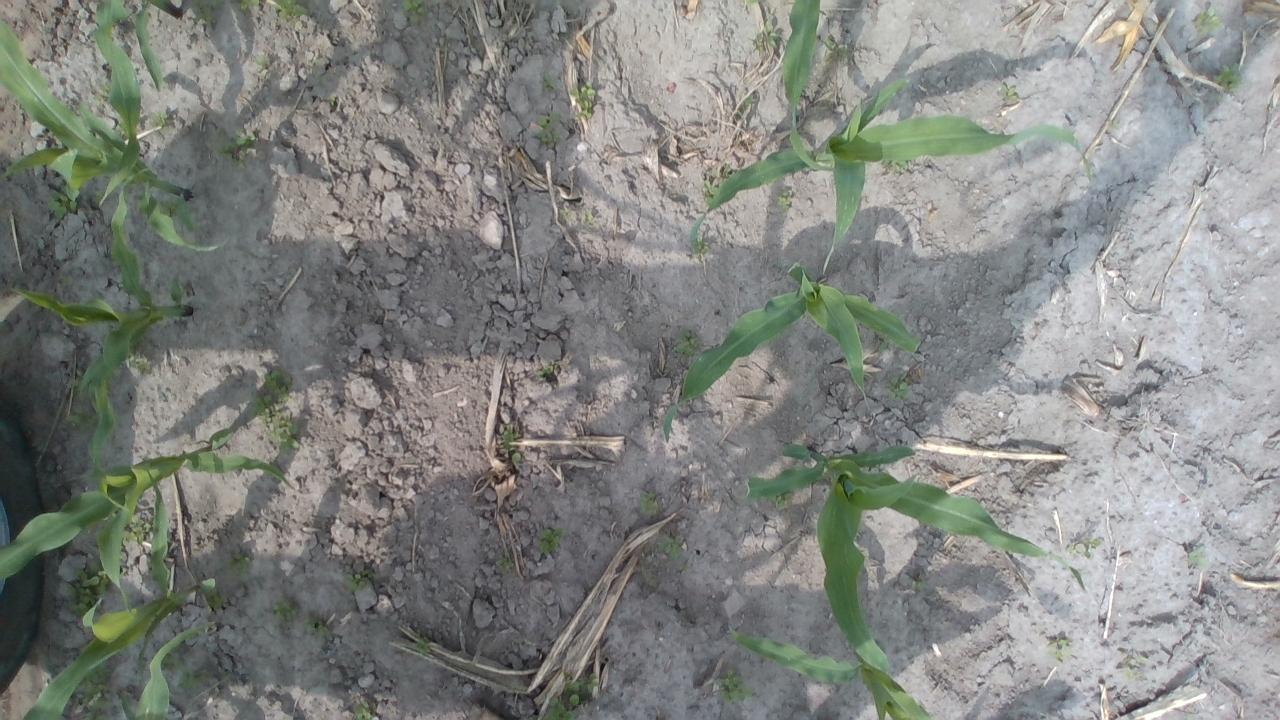Maize: (689, 76, 1096, 280), (747, 438, 1090, 670), (0, 376, 296, 580), (12, 167, 192, 483), (0, 18, 232, 251), (22, 465, 216, 720), (659, 263, 922, 441), (732, 629, 936, 720), (118, 621, 215, 720), (92, 0, 182, 91), (781, 0, 826, 174)
Weeds: (247, 366, 306, 454), (64, 560, 110, 622), (75, 662, 114, 720), (161, 195, 207, 234), (215, 126, 257, 168), (720, 667, 754, 703), (46, 183, 80, 218), (63, 402, 99, 434), (752, 16, 782, 52), (540, 693, 580, 720), (532, 112, 562, 148), (570, 79, 596, 119), (120, 512, 152, 544), (342, 569, 380, 594), (670, 328, 701, 358), (1192, 5, 1221, 37), (562, 672, 600, 696), (189, 0, 225, 25), (536, 526, 570, 552), (113, 354, 152, 376), (1214, 63, 1242, 93), (1121, 652, 1150, 680), (1064, 534, 1100, 556), (270, 0, 308, 20), (176, 668, 210, 690), (1046, 636, 1073, 663), (656, 534, 684, 560), (302, 612, 330, 638), (272, 598, 300, 624), (72, 366, 90, 402), (886, 375, 910, 402), (821, 35, 850, 57), (225, 554, 251, 578), (878, 158, 912, 176), (402, 0, 426, 24), (638, 489, 658, 516), (502, 423, 521, 450), (148, 108, 170, 130), (354, 701, 378, 720), (94, 78, 112, 103), (690, 234, 710, 256), (254, 54, 274, 76), (1188, 547, 1208, 568), (163, 652, 185, 671), (207, 589, 226, 610), (702, 180, 720, 202), (495, 552, 515, 570), (238, 0, 262, 15), (999, 82, 1018, 100), (774, 492, 792, 509), (534, 362, 554, 377), (542, 72, 557, 92), (878, 335, 894, 353), (775, 190, 790, 209), (93, 188, 108, 204), (416, 638, 430, 654), (910, 580, 928, 591), (722, 166, 738, 178), (62, 275, 76, 288), (511, 452, 523, 464), (1109, 119, 1120, 130), (559, 209, 569, 218), (744, 96, 754, 105), (742, 0, 758, 5)
